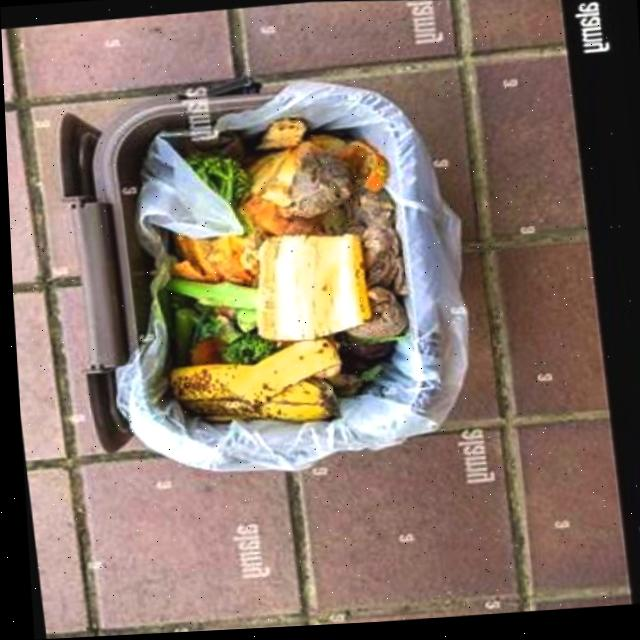Garbage: (165, 116, 401, 421)
